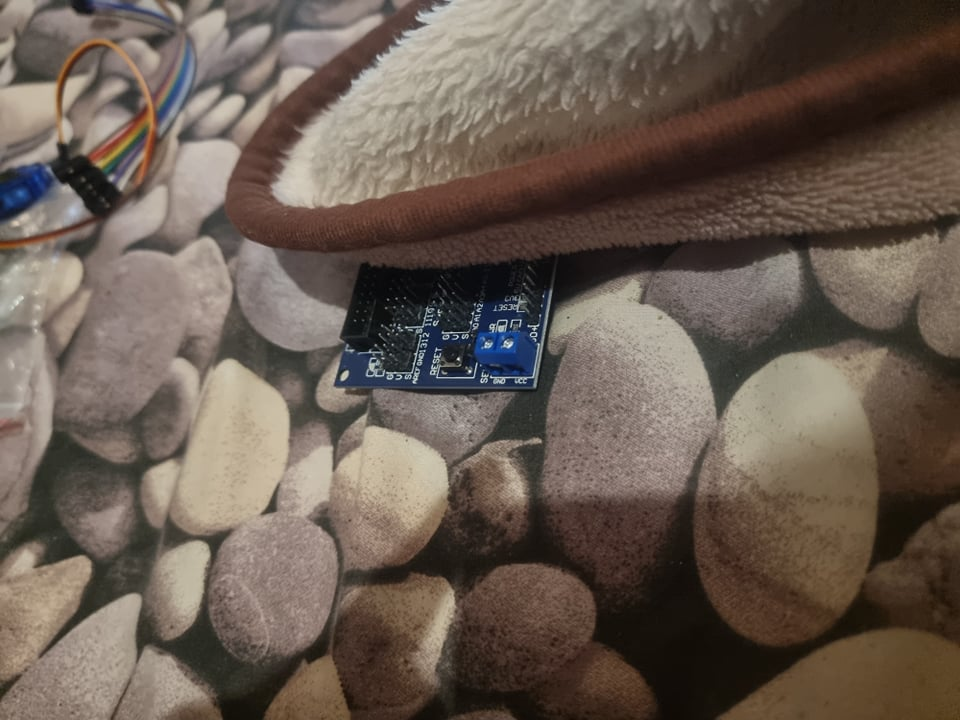5V EXPANSION: (323, 256, 548, 393)
